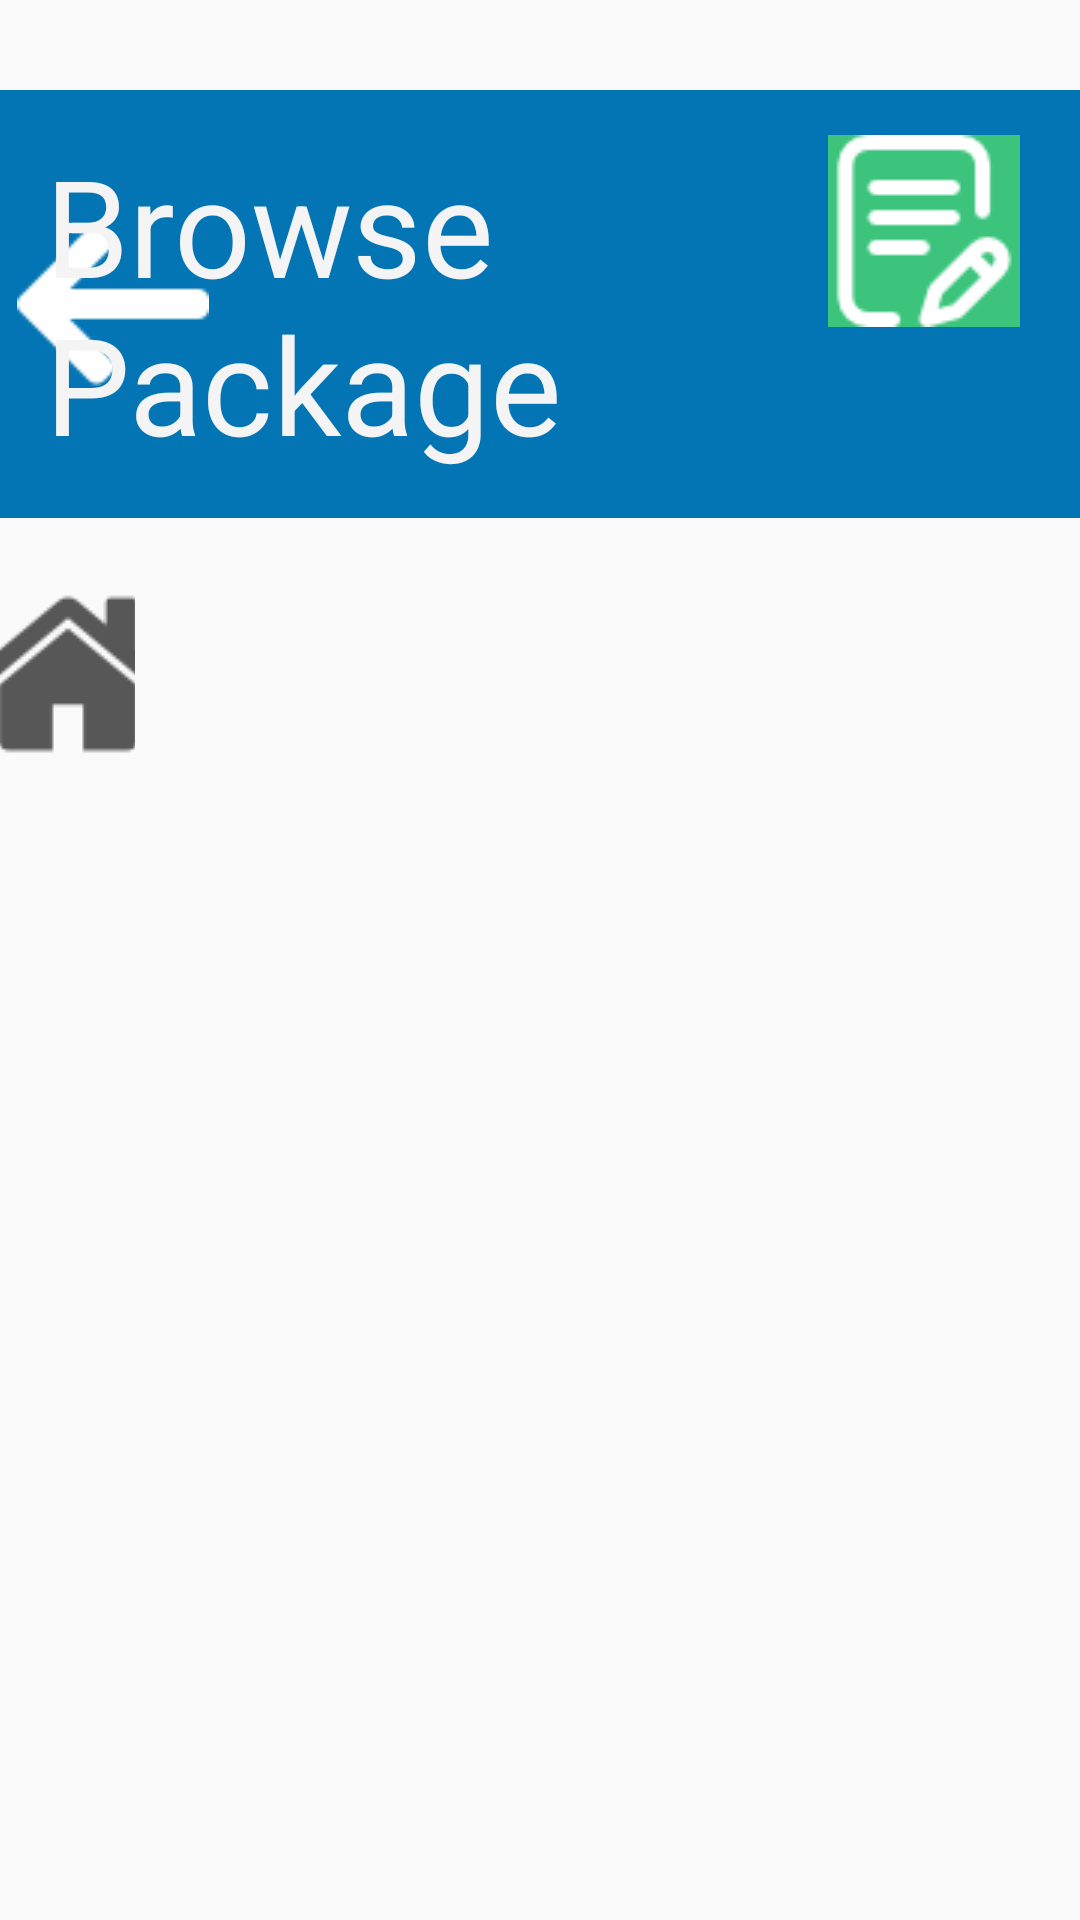

Where icons sit on this 1080 x 1920 app screen, as (x1, y1, x2, y2):
edit: (828, 135, 1020, 327)
home: (0, 596, 135, 753)
